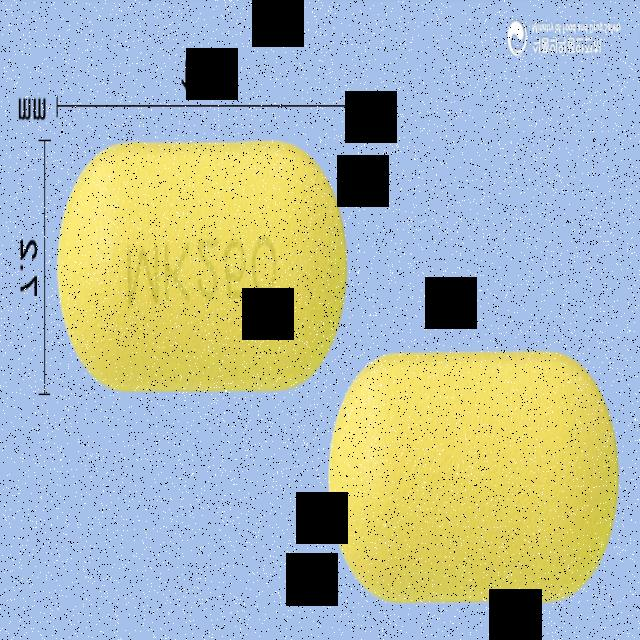Craycin - 500mg: (328, 349, 620, 604), (56, 140, 348, 394)
